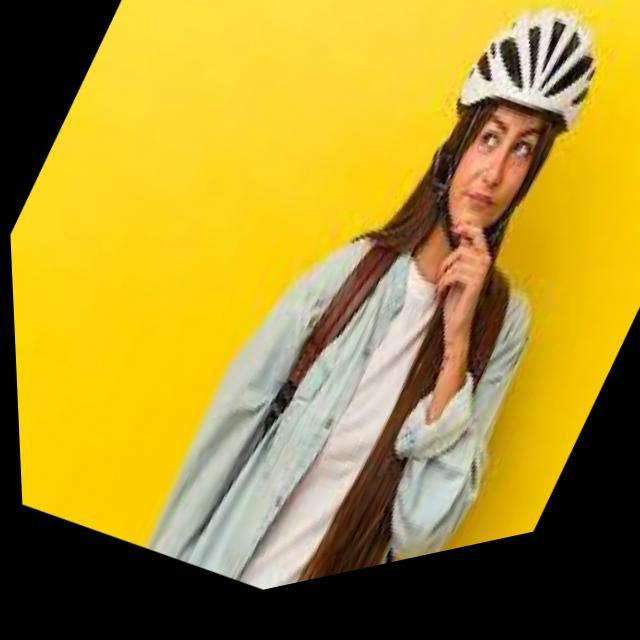Helmet: (423, 8, 599, 246)
